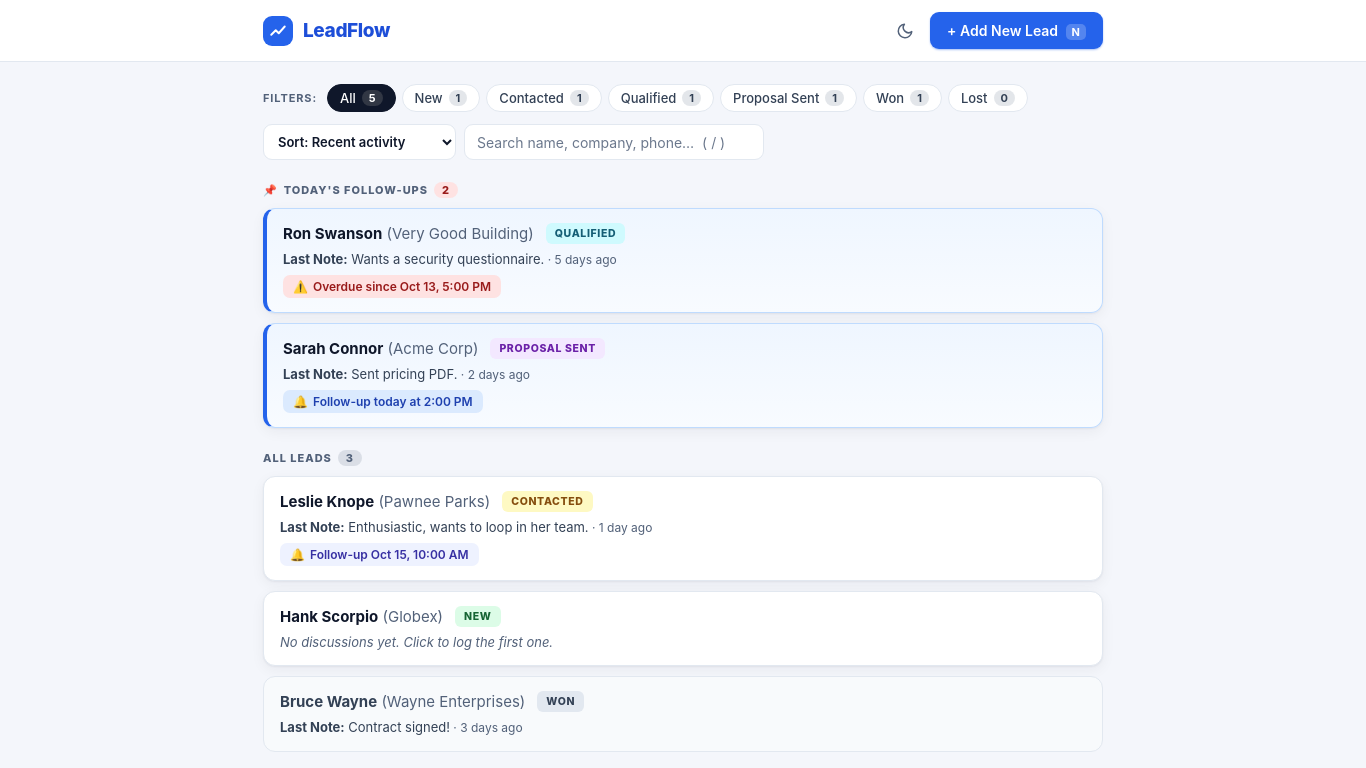
lead dialog › changes status immediately, offers undo, and rolls back on server failure
Click the button "Hank Scorpio". click: (329, 616)
box: [263, 590, 1103, 666]
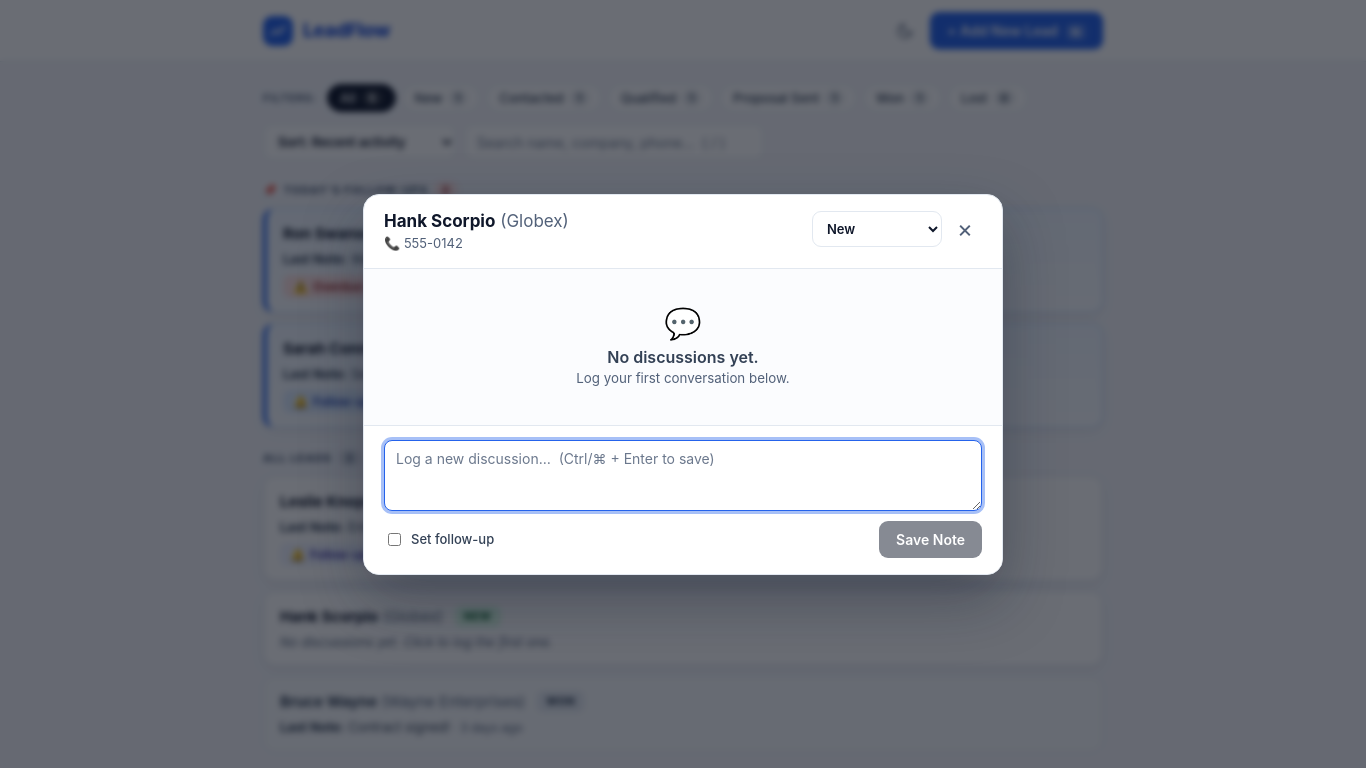
Select "Qualified" in the dropdown named "status". click: (877, 228)
box: [812, 210, 942, 246]
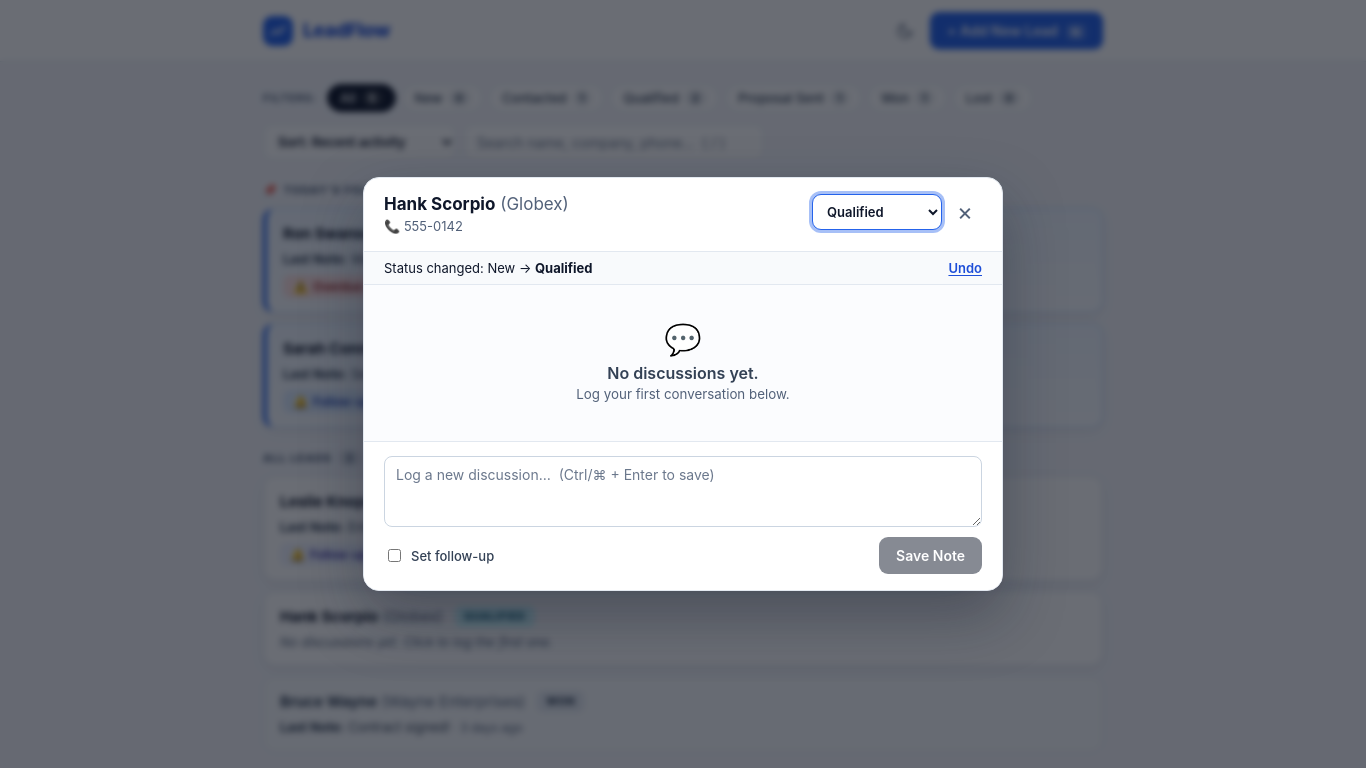
Expected: the text "Status changed: New → Qualified" is shown, [384, 260, 592, 276]
Click the button "Undo". click: (965, 268)
box: [948, 260, 982, 276]
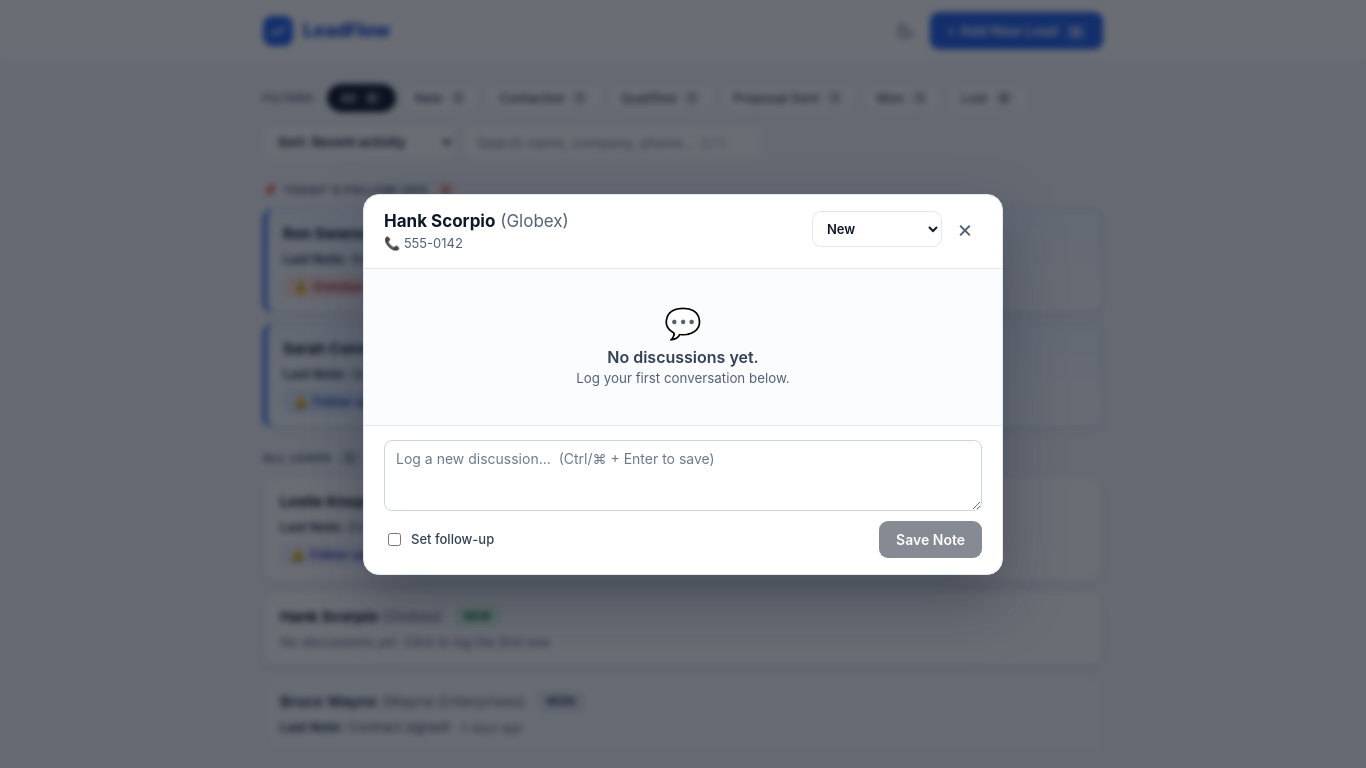
Select "Won" in the dropdown named "status". click: (877, 228)
box: [812, 210, 942, 246]
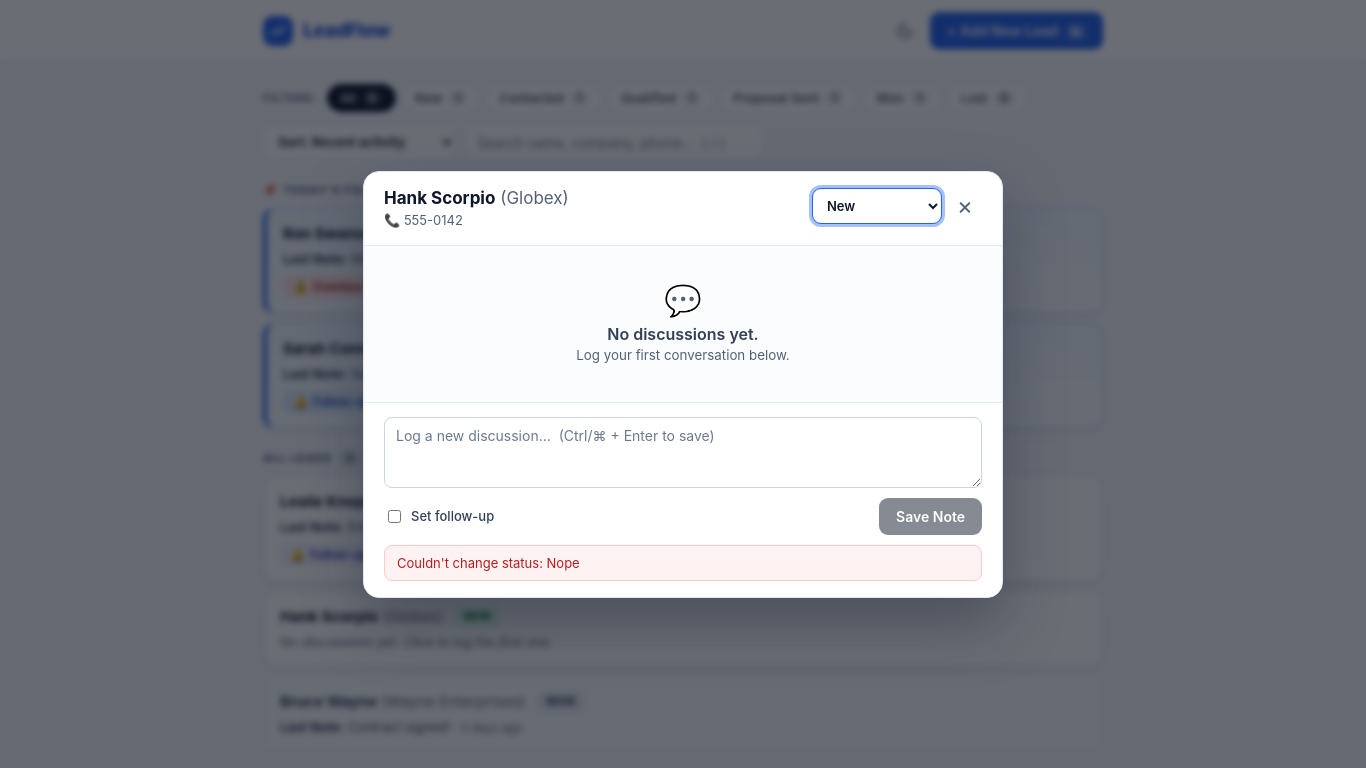
Expected: the text "Couldn't change status: Nope" is shown, [384, 544, 982, 580]
